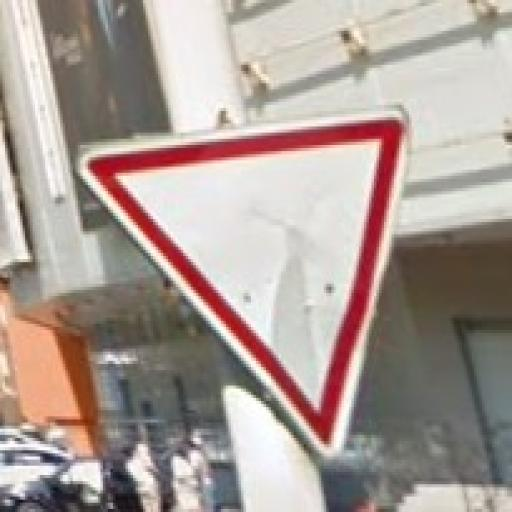traffic_sign: (76, 106, 415, 464)
